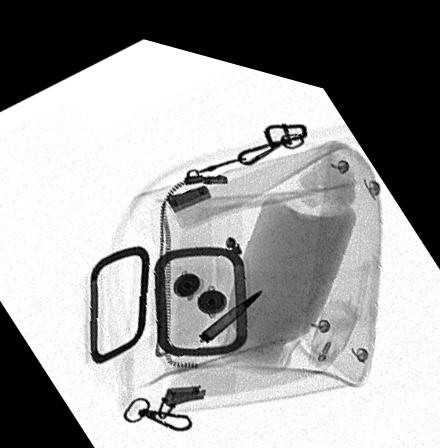Bullet: (198, 274, 265, 332)
